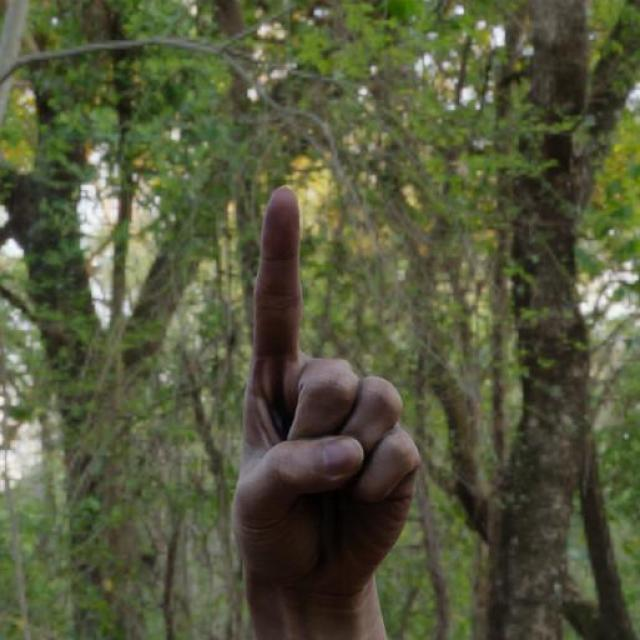Z: (229, 182, 423, 594)
